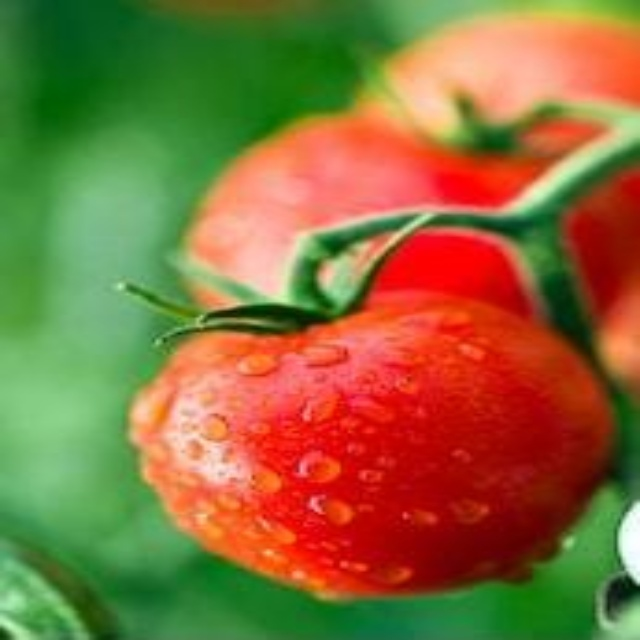tomato: (135, 302, 603, 599), (185, 125, 553, 339), (374, 19, 639, 183)
